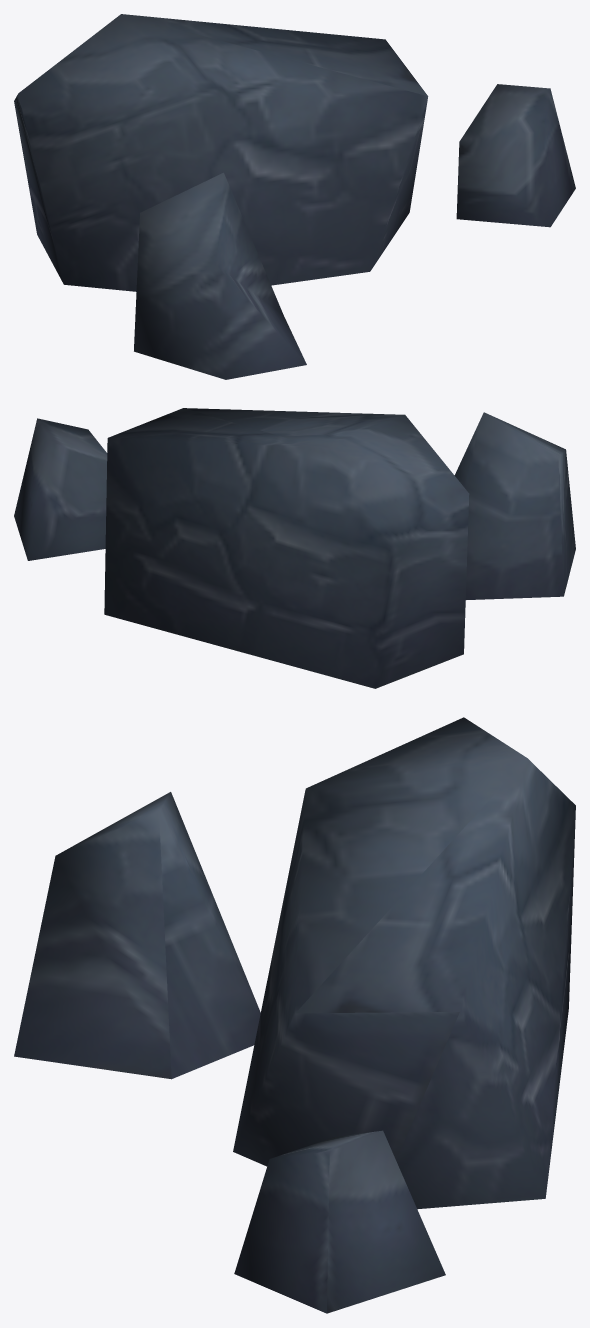
Rendered from Area_15_15.fbx.
The picture shows the model from 3 angles, top to bottom: view 1: azimuth 30°, elevation 25°; view 2: azimuth 150°, elevation 25°; view 3: azimuth 270°, elevation 25°; orthographic projection. The views are drawn at different scales.
Visible parts, largest first — view 1: Area_15_15; view 2: Area_15_15; view 3: Area_15_15.
Boxes of the visible parts, x1,y1,x2,y2 form: Area_15_15: (14, 14, 575, 379); Area_15_15: (14, 408, 575, 688); Area_15_15: (14, 717, 575, 1313).
Size of the model in its own units: 2240 by 907 by 1550.
